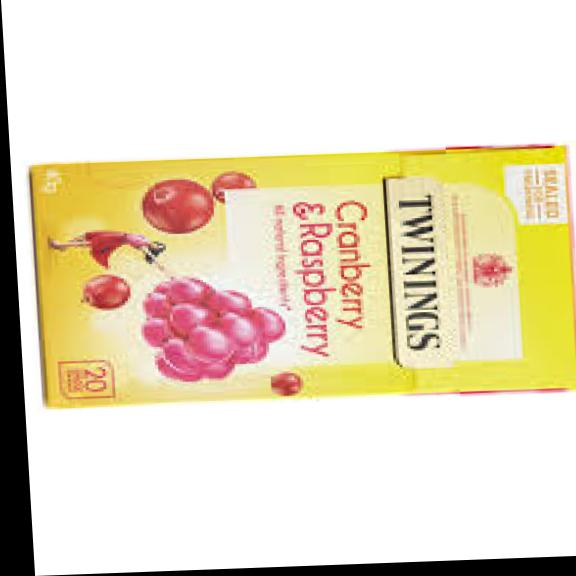Kertas: (36, 147, 576, 411)
